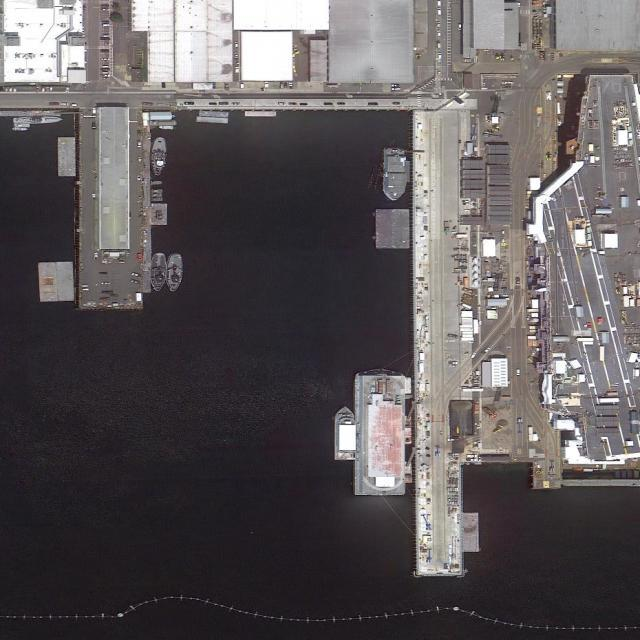Aircraft Carrier: (531, 76, 639, 469)
Cargo: (355, 366, 407, 495)
Dock: (413, 109, 480, 575), (75, 109, 149, 310)
Other Ship: (382, 147, 407, 202), (334, 407, 354, 462), (14, 124, 30, 128), (151, 193, 163, 198), (13, 128, 29, 131), (151, 198, 163, 202), (151, 190, 163, 194), (151, 181, 163, 185)
Other Warship: (151, 137, 167, 177), (151, 253, 167, 292), (167, 253, 183, 292), (11, 117, 63, 124)
